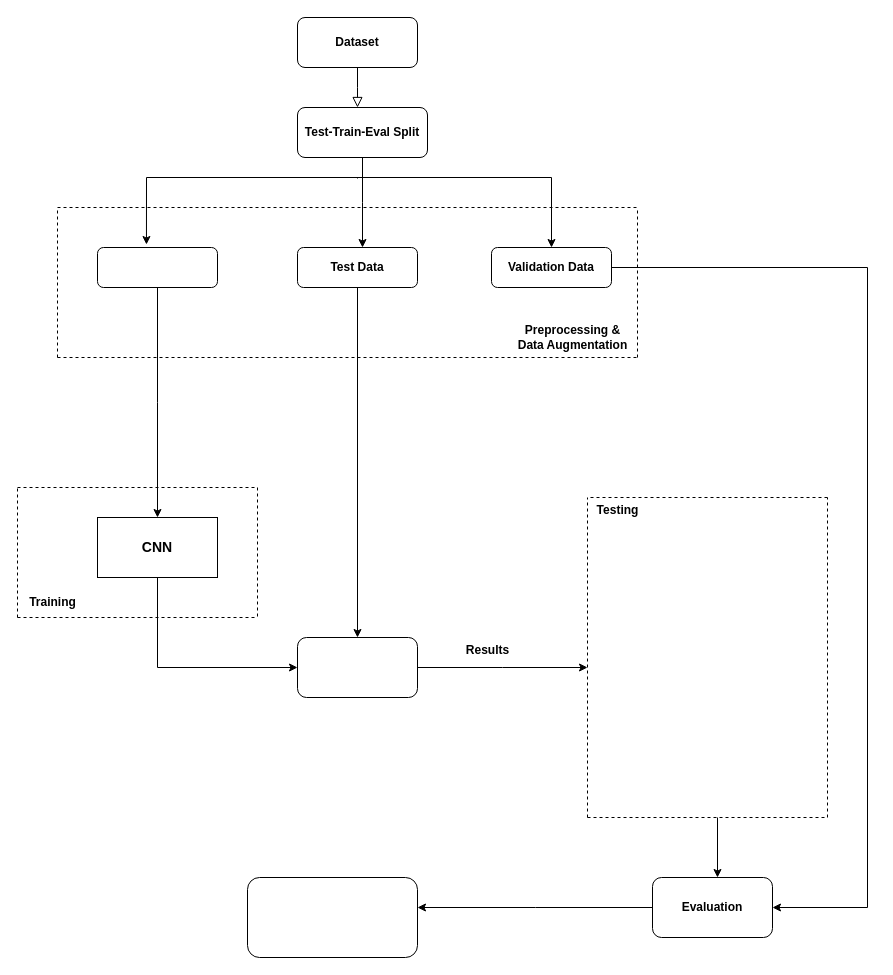
The diagram is 893 pixels wide and 975 high, and some of its shapes have lost their labels. The shapes that lost their labels are listed below. From the top down, each one's centre as x and y in pixels, then its label:
(157,267): Train Data
(357,667): Trained CNN
(332,917): Occluded Object Recognition
